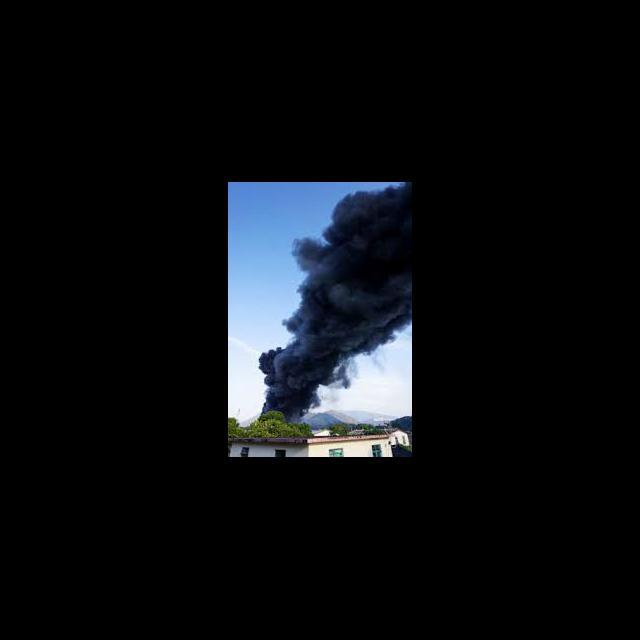Smoke: (258, 182, 411, 424)
